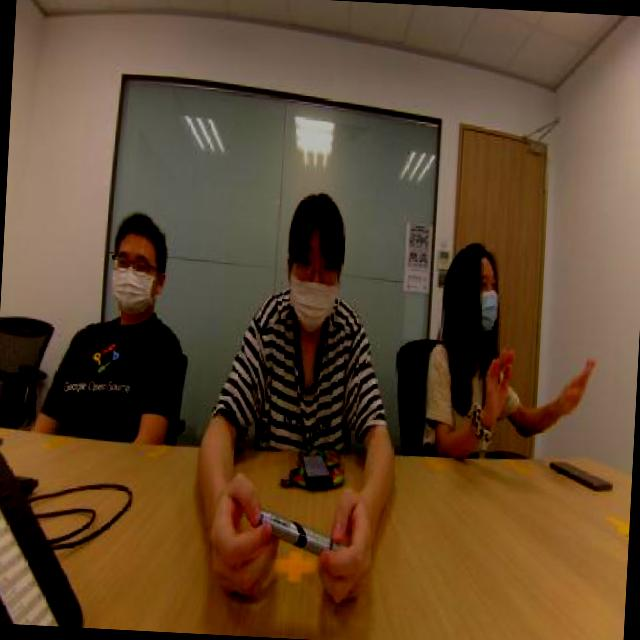Person: (214, 160, 385, 462), (59, 184, 200, 430), (407, 224, 542, 461)
